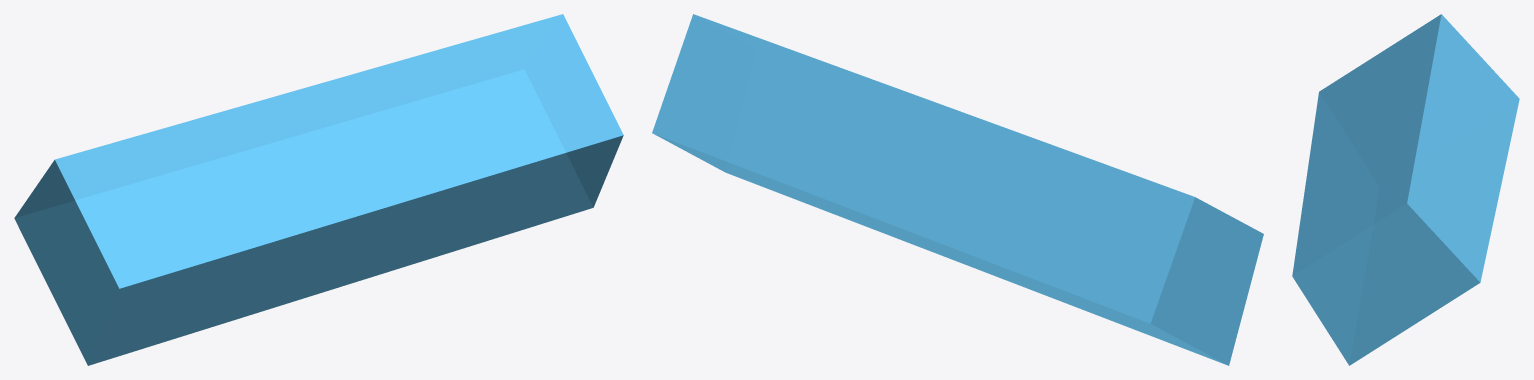
File: Event_421278790_HErechit_29.fbx
The picture shows the model from 3 angles, left to right: view 1: azimuth 30°, elevation 25°; view 2: azimuth 150°, elevation 25°; view 3: azimuth 270°, elevation 25°; orthographic projection. The views are drawn at different scales.
Visible parts, largest first — view 1: Model; view 2: Model; view 3: Model.
Part boxes in pixels (<box>): Model: <box>14,14,623,365</box>; Model: <box>652,14,1263,365</box>; Model: <box>1292,14,1519,365</box>.
Bounding box in the file's own units: 0.7081 × 0.3065 × 0.3003.
